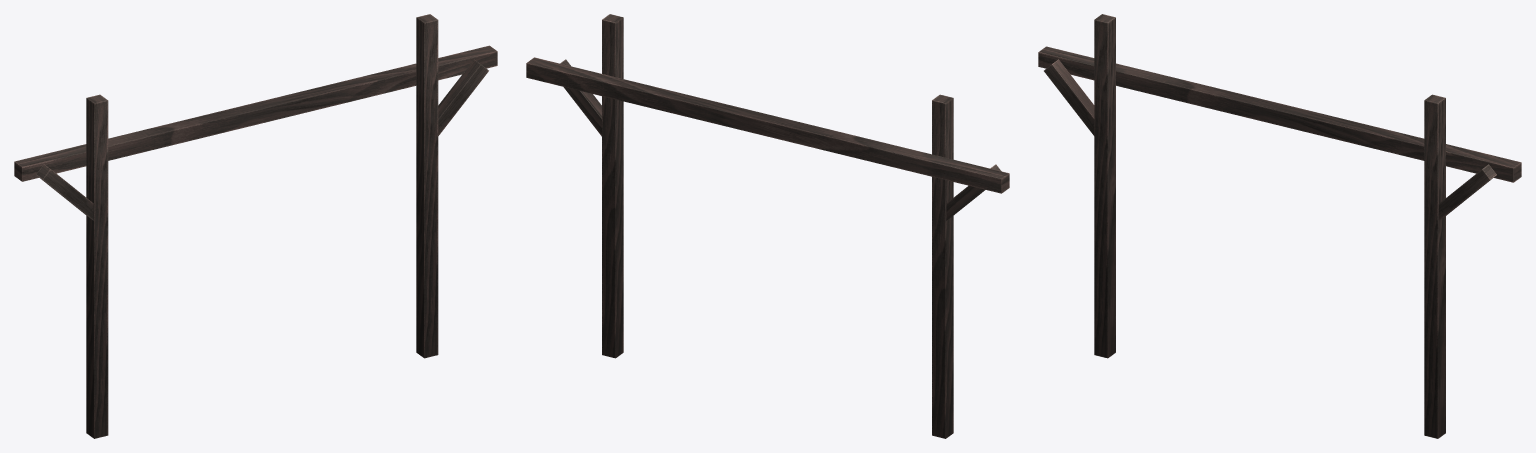
The model's file is Entrance.Gate.fbx.
3 renders of one model, left to right at view 1: azimuth 30°, elevation 25°; view 2: azimuth 150°, elevation 25°; view 3: azimuth 330°, elevation 25°, orthographic.
Parts seen in each view (by area): view 1: Entrance.Gate; view 2: Entrance.Gate; view 3: Entrance.Gate.
Part boxes in pixels (x1=…): Entrance.Gate: x1=14, y1=14, x2=497, y2=438; Entrance.Gate: x1=526, y1=14, x2=1009, y2=438; Entrance.Gate: x1=1038, y1=14, x2=1521, y2=438.
Size of the model in its own units: 752 by 506 by 44.
